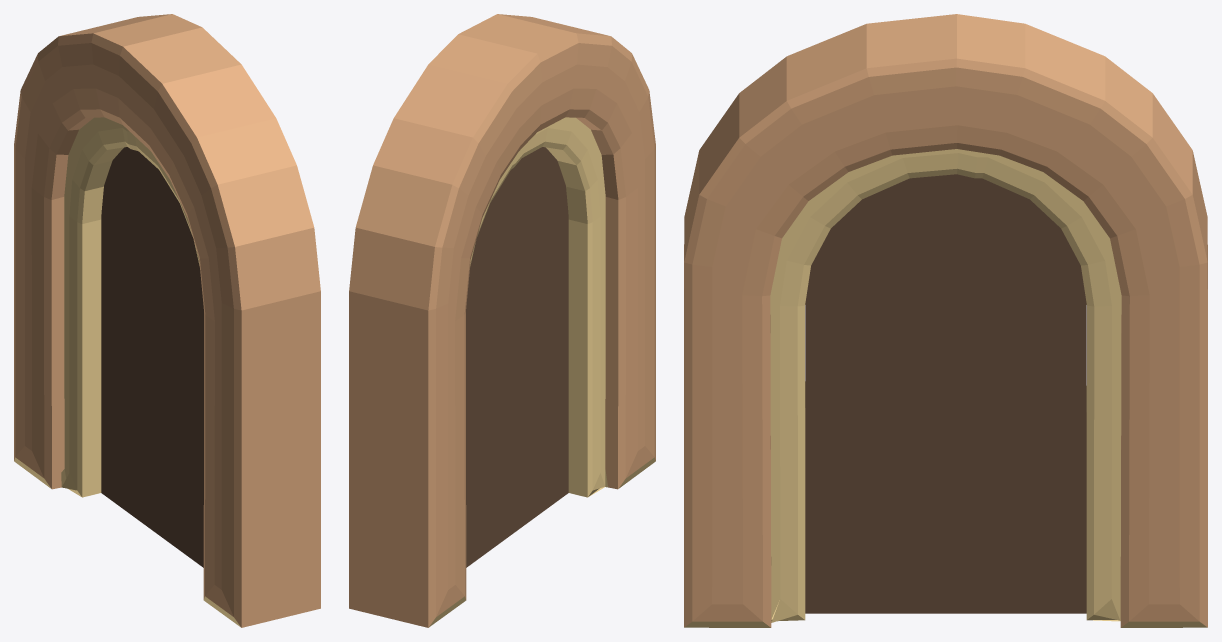
The model's file is placeholder_door.fbx.
3 renders of one model, left to right at view 1: azimuth 30°, elevation 25°; view 2: azimuth 150°, elevation 25°; view 3: azimuth 270°, elevation 25°, orthographic. The views are drawn at different scales.
Visible parts, largest first — view 1: Cube.004, Cube.002, Cube; view 2: Cube.004, Cube, Cube.002; view 3: Cube.004, Cube.002, Cube.
Boxes of the visible parts, x1,y1,x2,y2 form: Cube.004: [14, 14, 320, 627]; Cube.002: [101, 147, 162, 537]; Cube: [162, 175, 203, 567]; Cube.004: [349, 14, 655, 627]; Cube: [507, 147, 568, 537]; Cube.002: [466, 175, 507, 567]; Cube.004: [684, 14, 1207, 627]; Cube.002: [946, 174, 1086, 613]; Cube: [805, 175, 945, 613].
Bounding box in the file's own units: 82.61 × 448 × 373.
